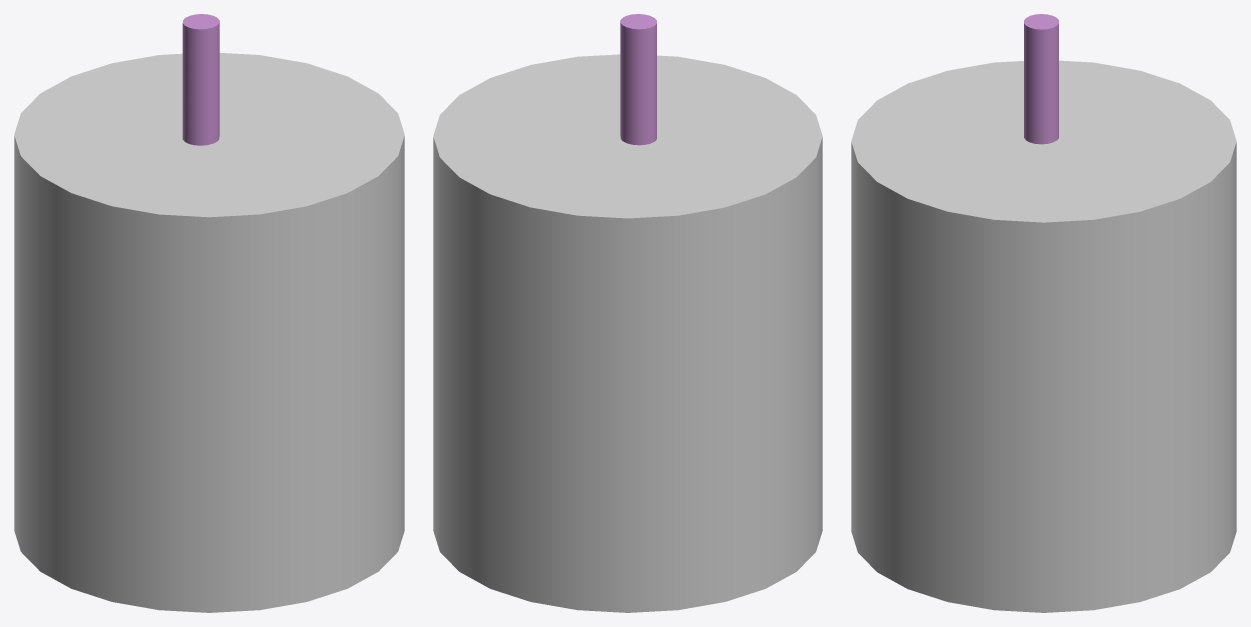
The model's file is cylynder2.FBX.
The picture shows the model from 3 angles, left to right: view 1: azimuth 30°, elevation 25°; view 2: azimuth 150°, elevation 25°; view 3: azimuth 270°, elevation 25°; orthographic projection.
Parts seen in each view (by area): view 1: Cone002, Object001; view 2: Cone002, Object001; view 3: Cone002, Object001.
Boxes of the visible parts, x1,y1,x2,y2 form: Cone002: [14, 53, 404, 612]; Object001: [182, 14, 219, 145]; Cone002: [433, 54, 822, 612]; Object001: [620, 14, 656, 145]; Cone002: [851, 60, 1236, 612]; Object001: [1024, 14, 1058, 144].
Size of the model in its own units: 36.73 by 53.12 by 36.73.
